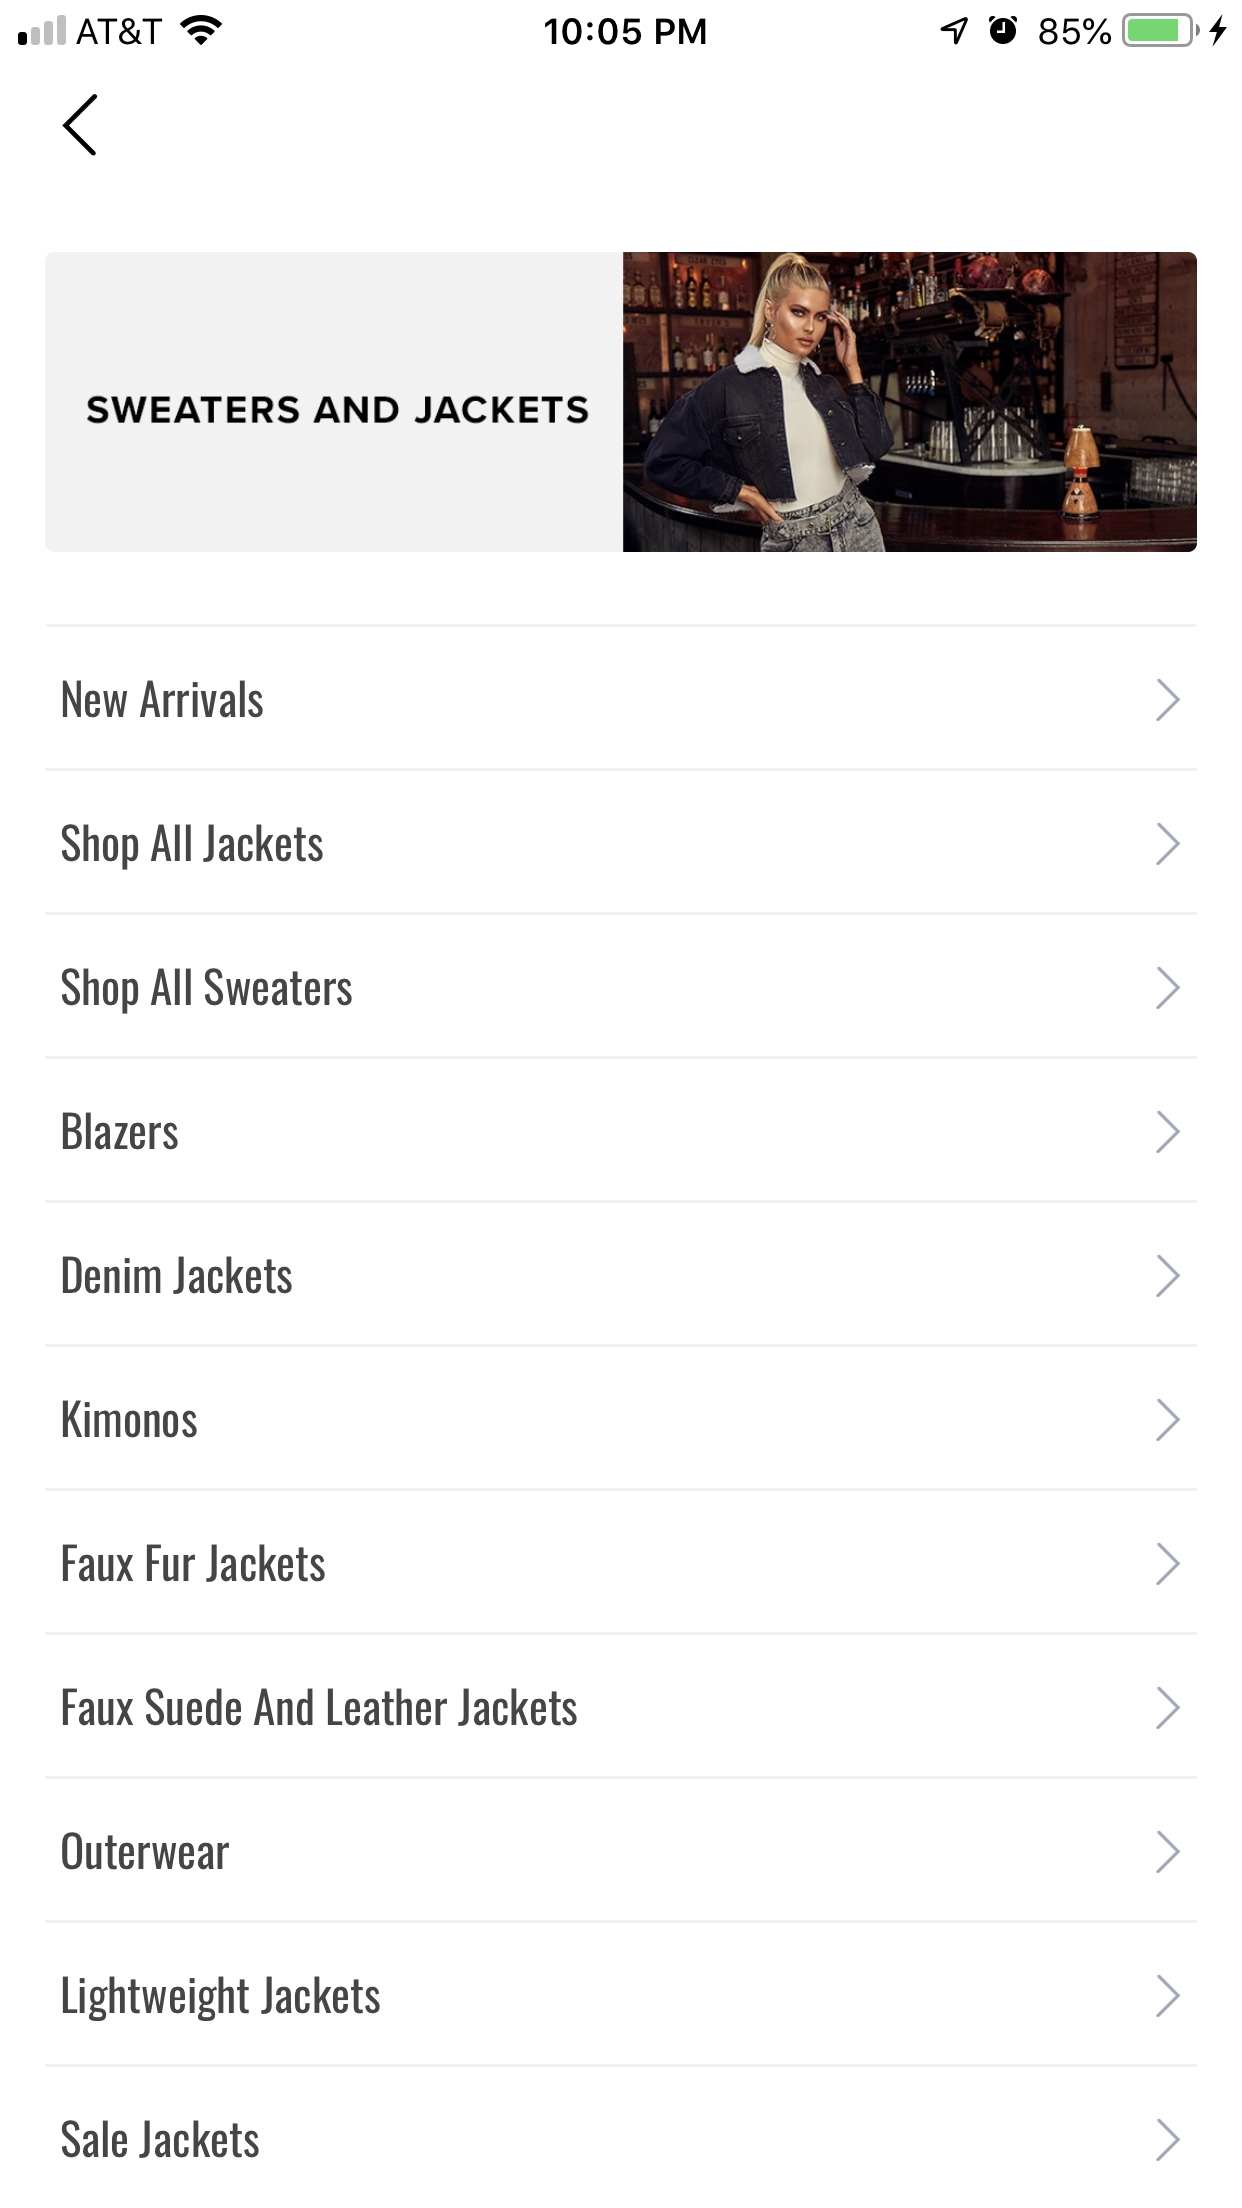Icon: (62, 94, 99, 158), (1156, 2119, 1181, 2163), (1156, 1974, 1181, 2018), (1156, 1830, 1181, 1874), (1156, 1686, 1181, 1730), (1156, 1542, 1181, 1586), (1156, 1398, 1181, 1442), (1156, 1254, 1181, 1298), (1156, 1110, 1181, 1154), (1156, 966, 1181, 1010), (1156, 822, 1181, 866), (1156, 678, 1181, 722)
Image: (623, 252, 1198, 554)
Text: (62, 1686, 578, 1727), (88, 394, 590, 425), (64, 1974, 382, 2021), (62, 968, 353, 1015), (61, 823, 325, 870), (62, 1542, 326, 1583), (62, 1256, 293, 1295), (64, 679, 265, 719), (62, 2119, 261, 2158), (62, 1830, 231, 1870), (62, 1400, 199, 1439), (64, 1112, 180, 1151)
UpperTaskBar: (2, 2, 1242, 49)
